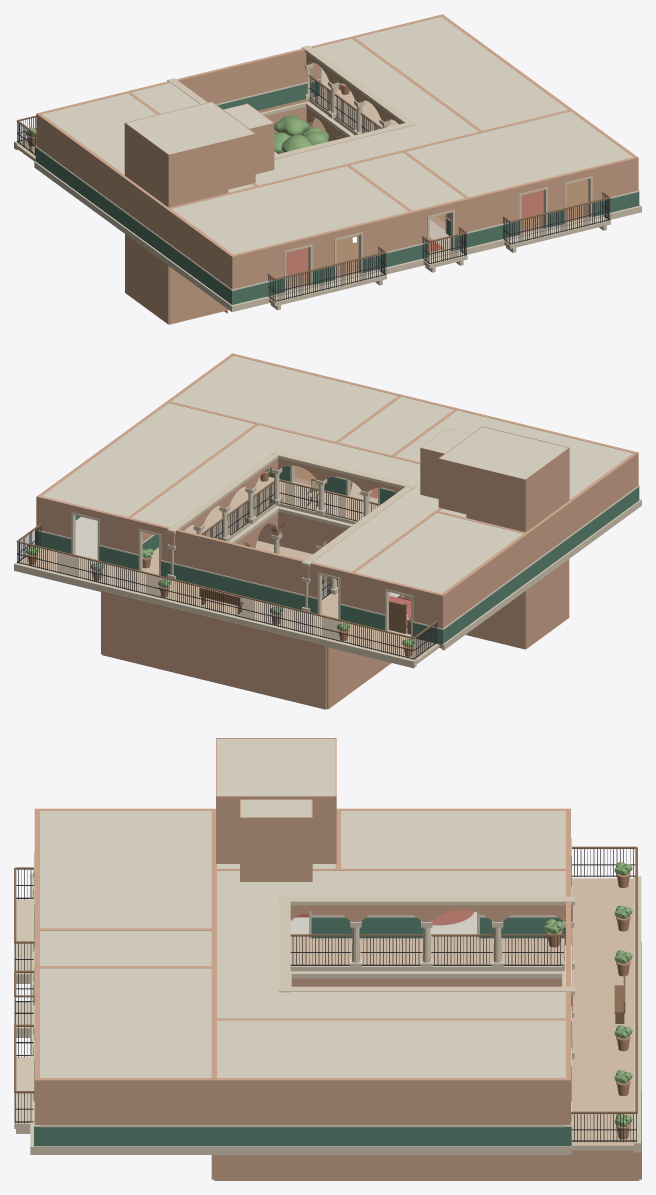
3 renders of one model, top to bottom at view 1: azimuth 30°, elevation 25°; view 2: azimuth 150°, elevation 25°; view 3: azimuth 270°, elevation 25°, orthographic. The views are drawn at different scales.
Parts seen in each view (by area): view 1: pa_techo, pa_muro_h0_0, pa_escalera_arriba, pa_muro_v0_0, pa_muro_h300_0, pa_balcon_rej, pa_escalera_cubo, pa_escalera_arriba_techo, pa_muro_h0_0_lam, pa_entrepiso_cor, pa_muro_v0_0_lam, pa_piso_duela (+19 smaller); view 2: pa_techo, pa_abajo_pared, pa_muro_h300_0, pa_piso_corredor, pa_escalera_arriba, pa_muro_v0_0, pa_balcon_t_rej, pa_muro_h300_0_lam, pa_escalera_cubo, pa_escalera_arriba_techo, pa_balcon_t_borde, pa_muro_v0_0_lam (+21 smaller); view 3: pa_techo, pa_muro_v360_0, pa_piso_corredor, pa_abajo_pared, pa_muro_v360_0_lam, pa_escalera_arriba, pa_escalera_arriba_techo, pa_entrepiso_cor, pa_muro_v80_100_lam, pa_barandal, pa_dintel_v120_cor, pa_dintel_v120 (+24 smaller).
Boxes of the visible parts, box(x1,y1,x2,y2) form: pa_techo: box(42, 16, 632, 254); pa_muro_h0_0: box(230, 156, 638, 289); pa_escalera_arriba: box(124, 101, 274, 203); pa_muro_v0_0: box(38, 114, 232, 287); pa_muro_h300_0: box(36, 14, 444, 147); pa_balcon_rej: box(268, 194, 610, 302); pa_escalera_cubo: box(125, 234, 228, 324); pa_escalera_arriba_techo: box(126, 102, 272, 154); pa_muro_h0_0_lam: box(229, 192, 639, 304); pa_entrepiso_cor: box(34, 161, 641, 312); pa_muro_v0_0_lam: box(38, 149, 229, 302); pa_piso_duela: box(287, 179, 588, 287); pa_techo: box(42, 356, 632, 593); pa_abajo_pared: box(101, 520, 391, 709); pa_muro_h300_0: box(36, 495, 444, 628); pa_piso_corredor: box(20, 476, 438, 660); pa_escalera_arriba: box(420, 426, 569, 528); pa_muro_v0_0: box(442, 453, 636, 626); pa_balcon_t_rej: box(17, 525, 437, 659); pa_muro_h300_0_lam: box(35, 531, 445, 644); pa_escalera_cubo: box(466, 559, 569, 649); pa_escalera_arriba_techo: box(421, 427, 568, 479); pa_balcon_t_borde: box(14, 562, 416, 668); pa_muro_v0_0_lam: box(445, 488, 636, 641); pa_techo: box(40, 811, 565, 1077); pa_muro_v360_0: box(40, 1078, 565, 1125); pa_piso_corredor: box(290, 878, 633, 1145); pa_abajo_pared: box(211, 941, 641, 1180); pa_muro_v360_0_lam: box(40, 1127, 565, 1146); pa_escalera_arriba: box(216, 738, 336, 881); pa_escalera_arriba_techo: box(217, 739, 335, 817); pa_entrepiso_cor: box(30, 873, 571, 1154); pa_muro_v80_100_lam: box(311, 917, 564, 938); pa_barandal: box(290, 936, 563, 965); pa_dintel_v120_cor: box(278, 896, 574, 905); pa_dintel_v120: box(290, 905, 572, 921).
Bounding box in the file's own units: 36.6 × 14.84 × 35.46.
